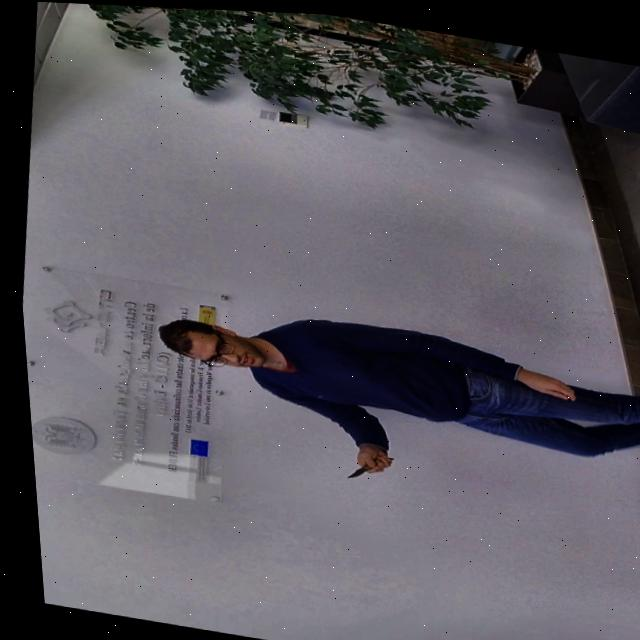knife: (338, 457, 365, 477)
